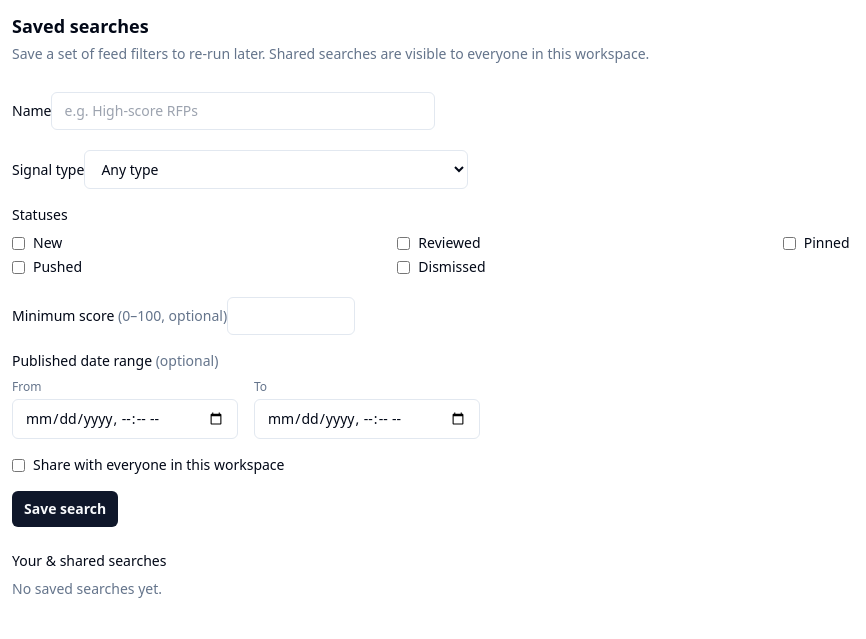
Test: SavedSearchManager › requires a name on create
Click the button "Save search". click: (65, 509)
box: x1=12 y1=491 x2=118 y2=527
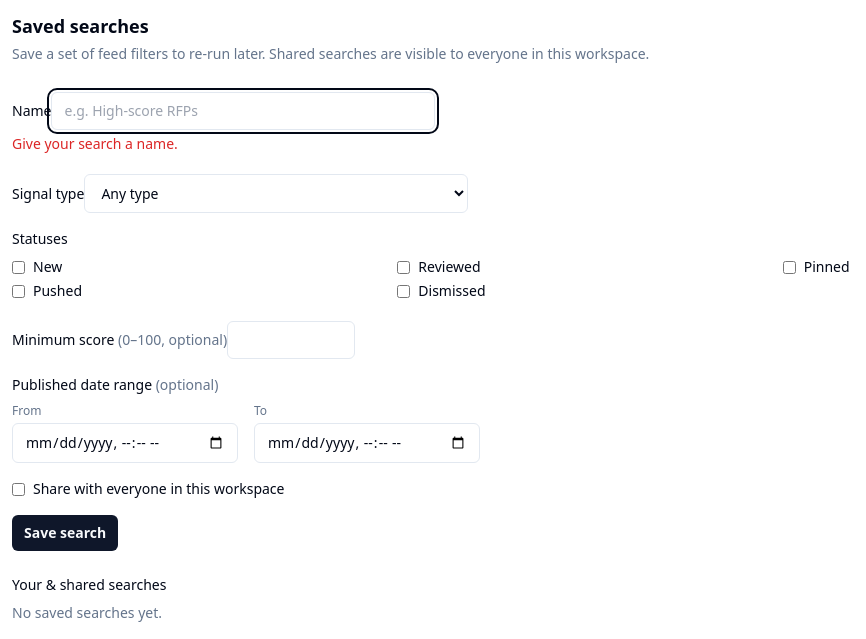
Result: the text "Give your search a name." is shown at x1=12 y1=134 x2=178 y2=153
